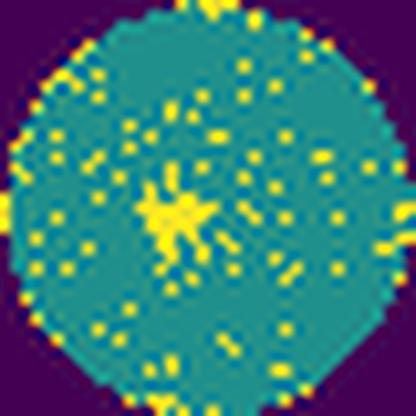Center: (127, 162, 221, 273)
